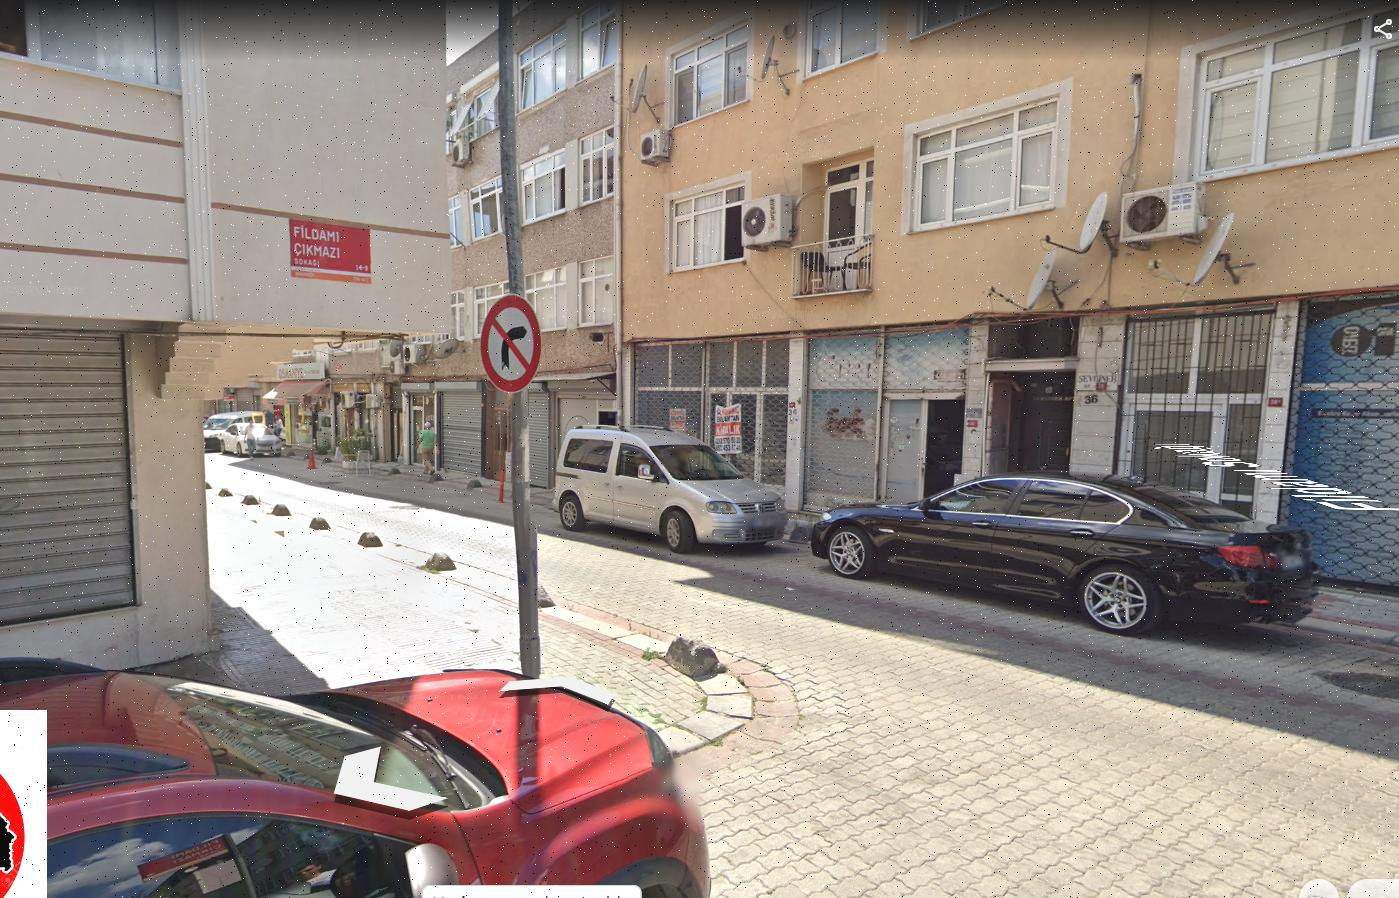rightturnsareforbidden: (486, 299, 538, 383)
